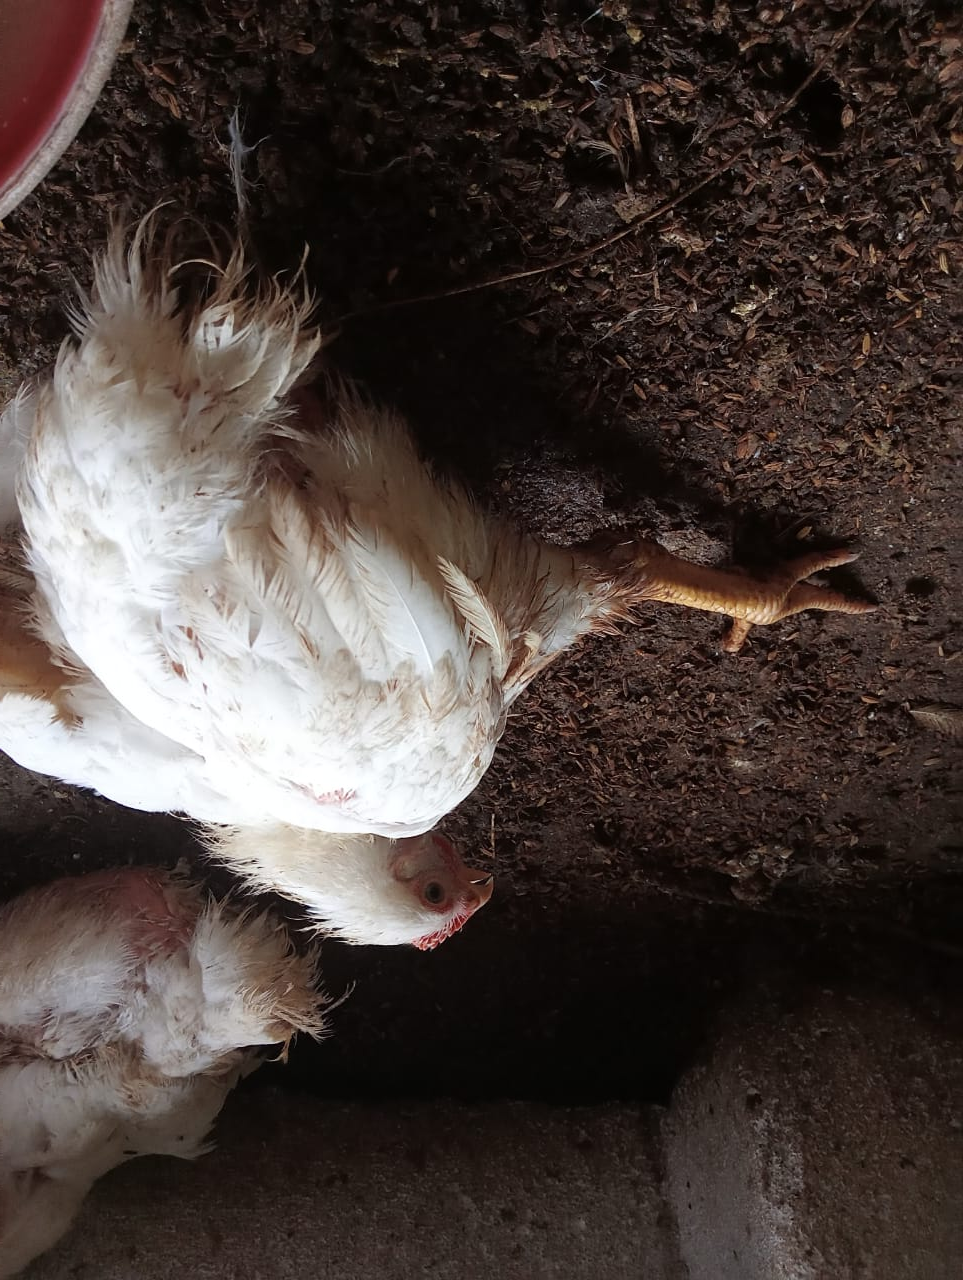Unhealthy: (10, 180, 880, 969)
